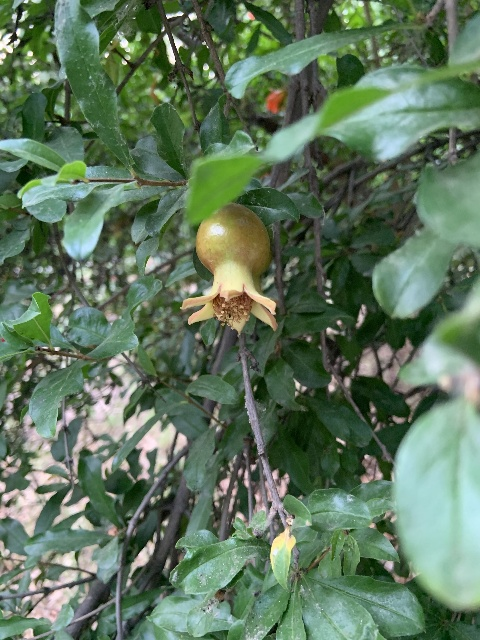early-fruit: (180, 203, 276, 336)
